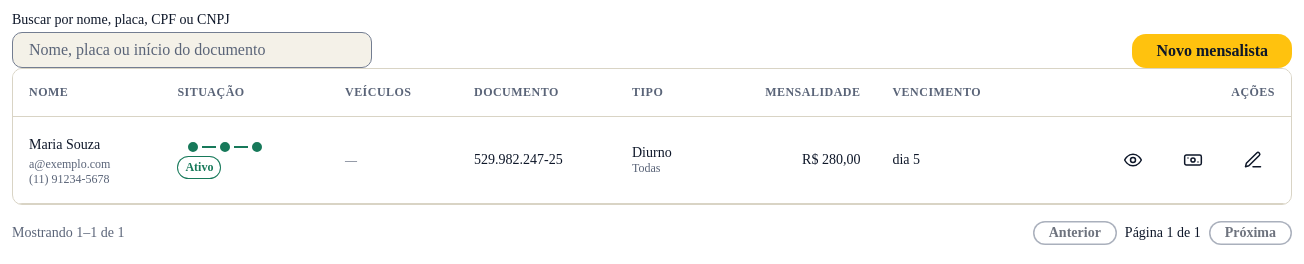
Scenario: MensalistasList: busca por nome e placa › placa acha o dono, com ou sem hífen
The image size is (1304, 264).
Expected: the button "Maria Souza" is shown, [29,133,100,157]
In the field labelled "Buscar por nome, placa, CPF ou CNPJ": point(192, 50) [12,32,372,68], type "abc-1d23"
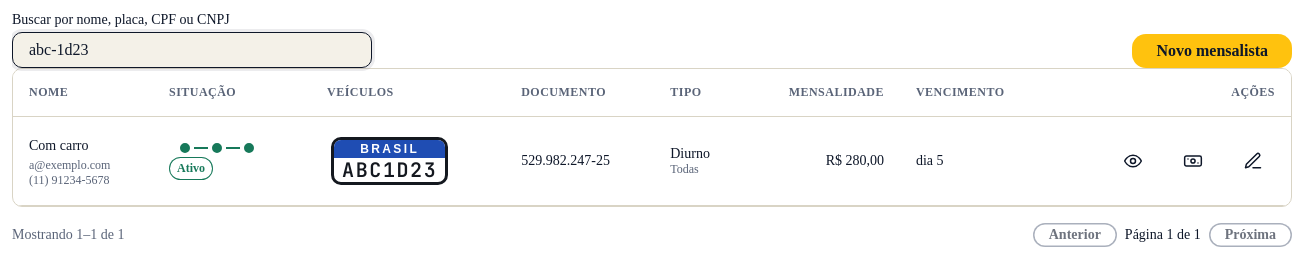
Now the button "Com carro" is shown, box [29,134,88,158]
